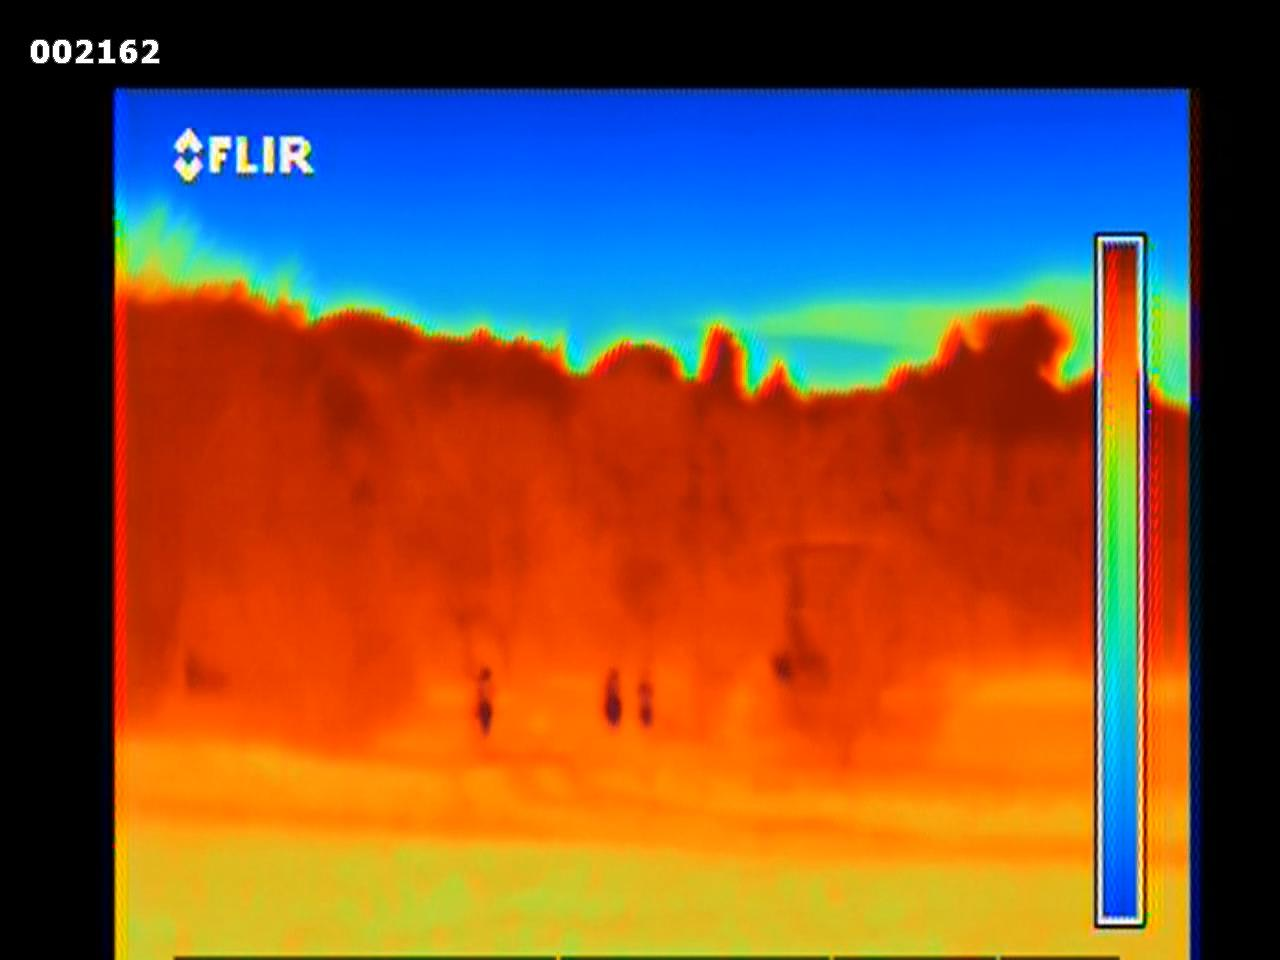persone: (476, 663, 498, 731), (601, 664, 622, 722), (637, 674, 658, 724)
